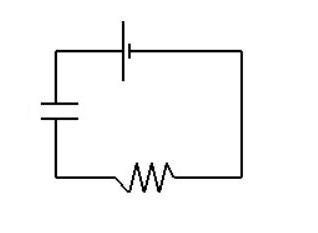resistor: (91, 154, 195, 202)
